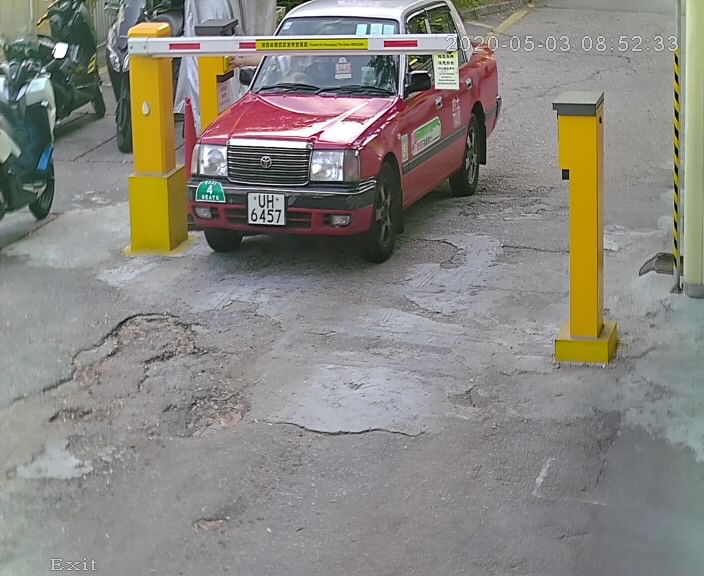taxi: (159, 2, 513, 272)
taxi_mark: (192, 172, 234, 208)
